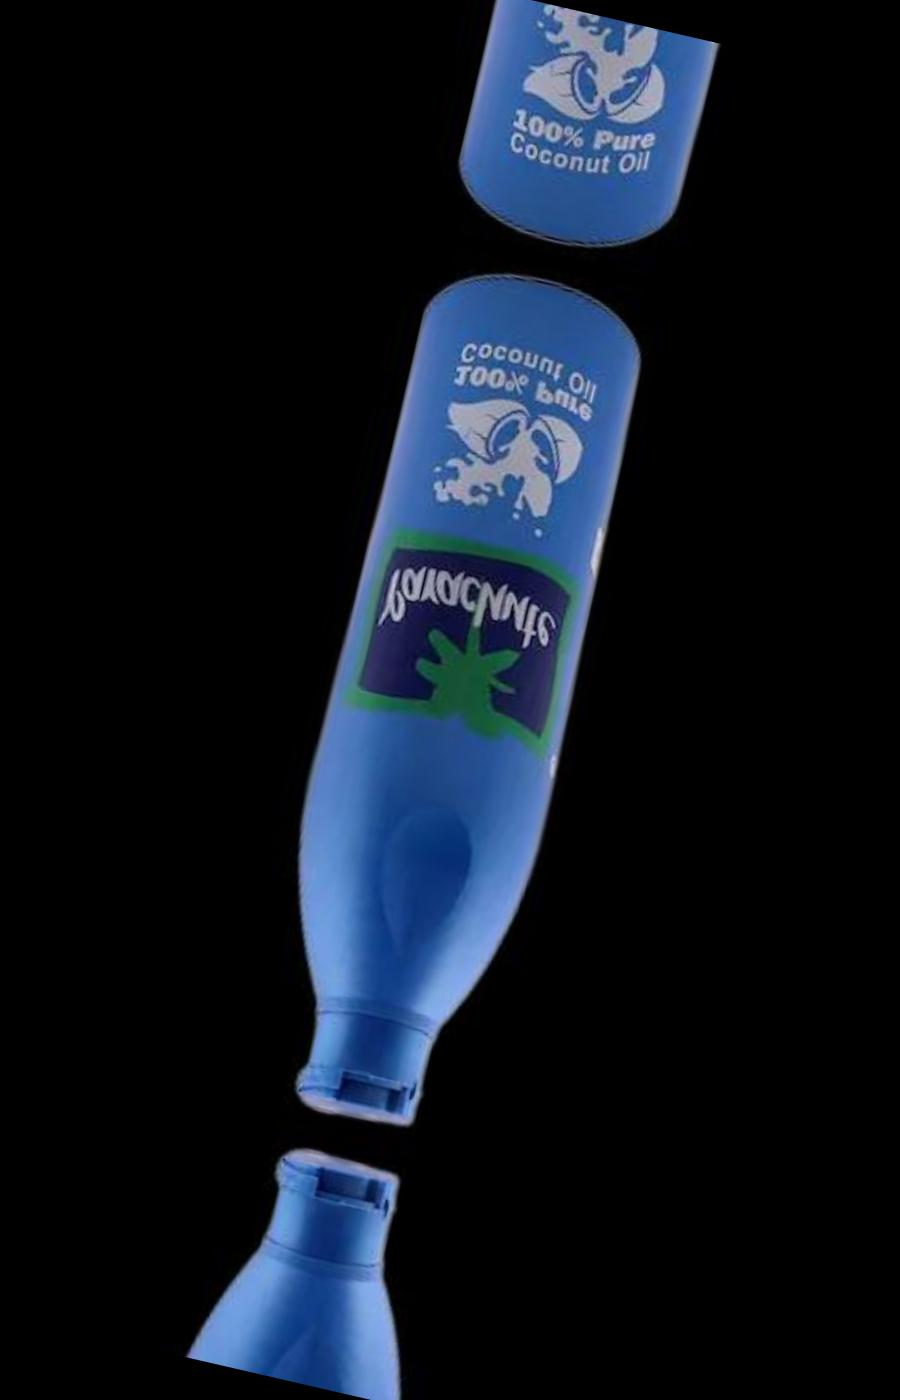Parachute Coconut Oil 300 ml: (238, 253, 654, 1147), (177, 1128, 451, 1400), (440, 0, 713, 268)
